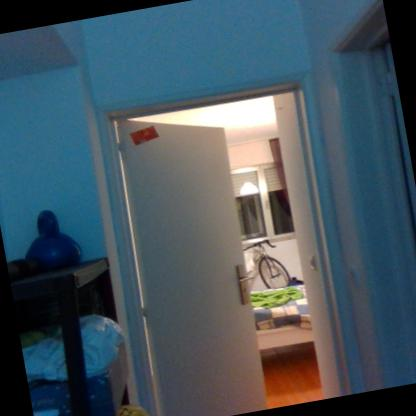semi: (82, 65, 368, 415)
